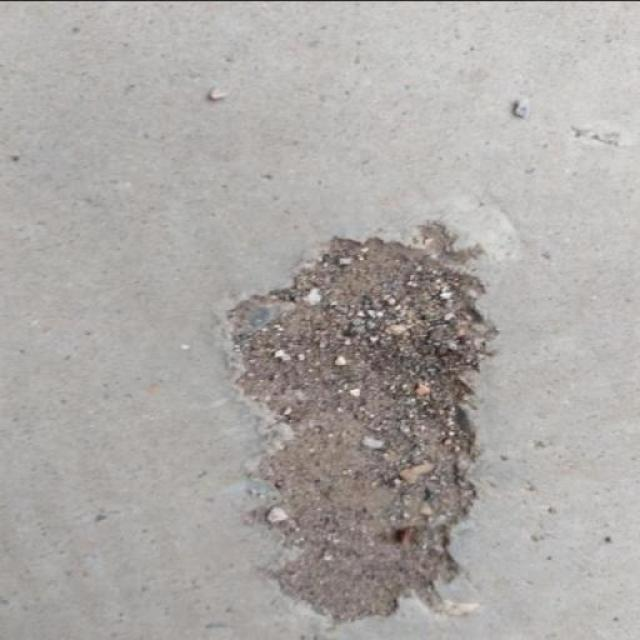D10: (222, 222, 496, 624)
